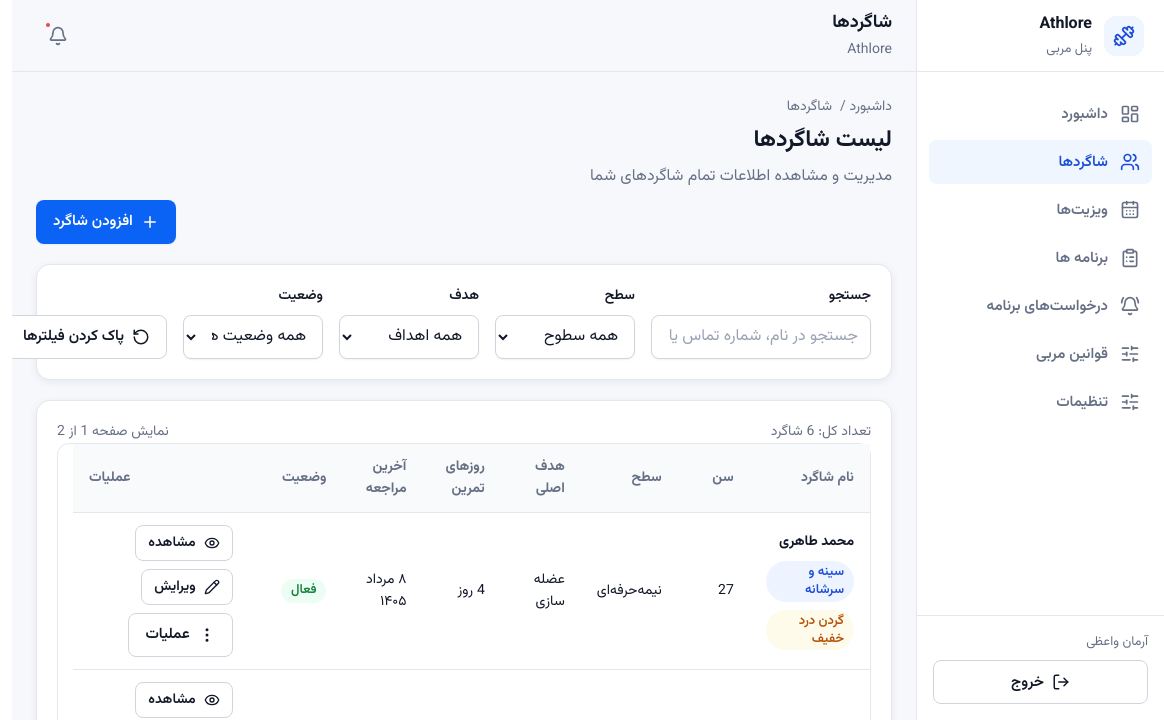
Test: StudentsListPage › navigates to the create route
This screenshot has width=1164, height=720.
Click the button "افزودن شاگرد".
click(106, 222)  # box [36, 200, 176, 244]
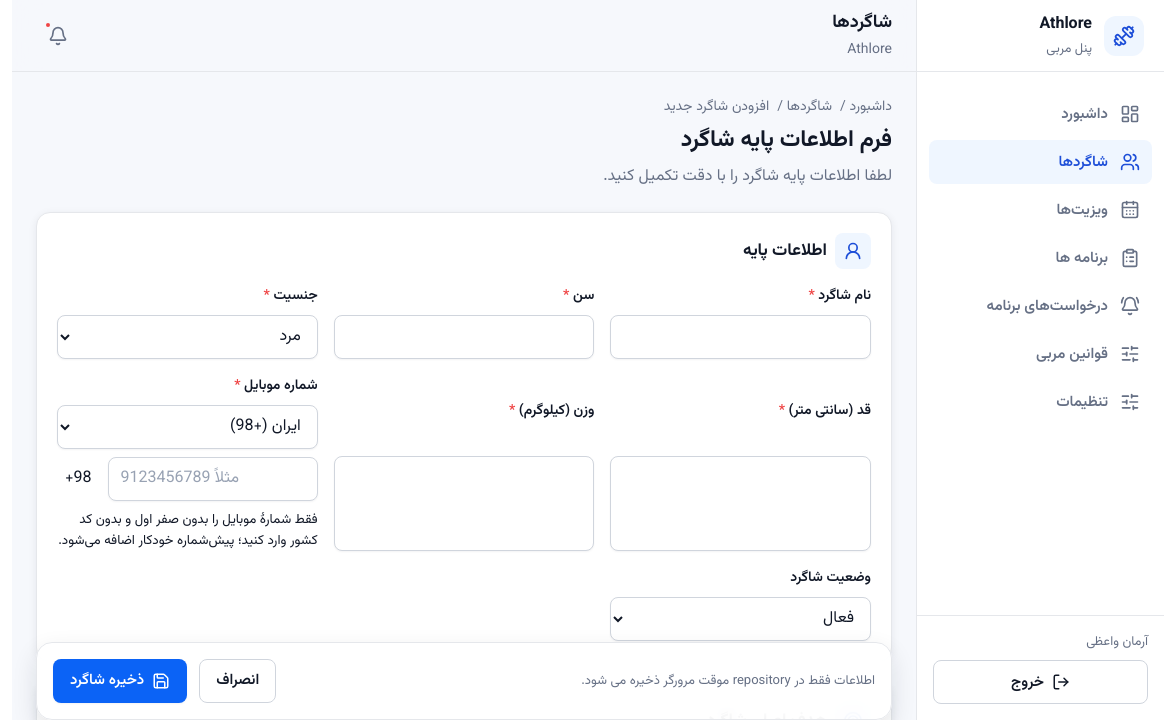
Check: the heading "فرم اطلاعات پایه شاگرد" is shown, box [681, 122, 892, 158]
